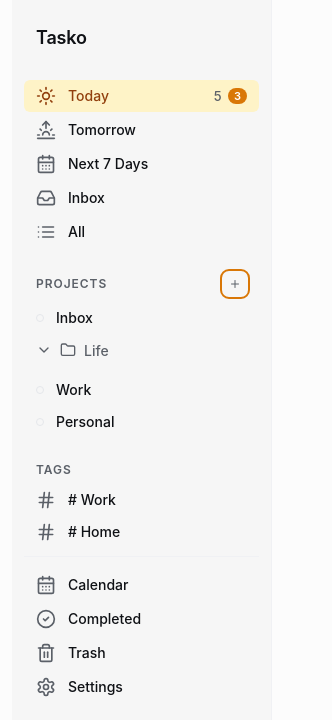
Test: Sidebar › right-click context menu on project row › opens context menu with Rename, Move to folder, Toggle hierarchical, Delete
Step 1. Right-click the list item "Work" → (64, 390), box [36,381,91,398]
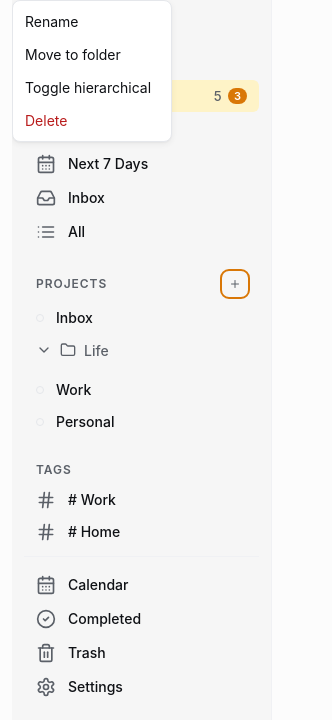
Expected: the menu item "Rename" is shown, [13,5,171,38]
Expected: the menu item "Move to folder" is shown, [13,38,171,71]
Expected: the menu item "Toggle hierarchical" is shown, [13,71,171,104]
